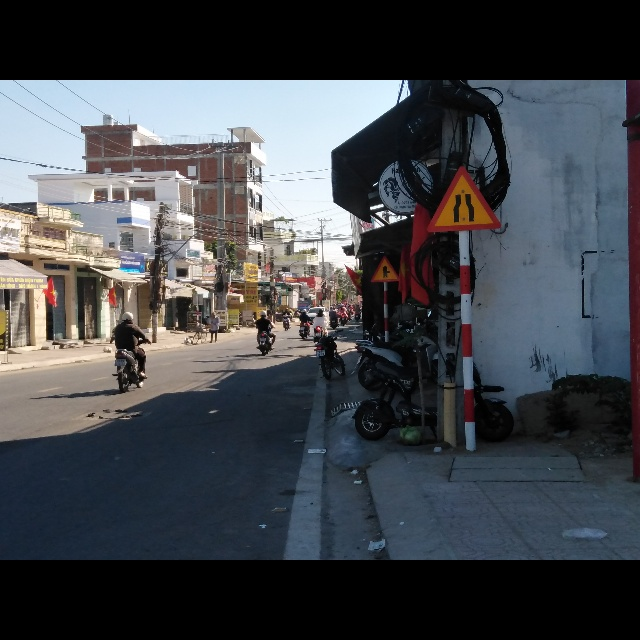Giao nhau với đường không ưu tiên: (370, 256, 399, 282)
Đường bị hẹp cả hai bên: (425, 165, 505, 233)
